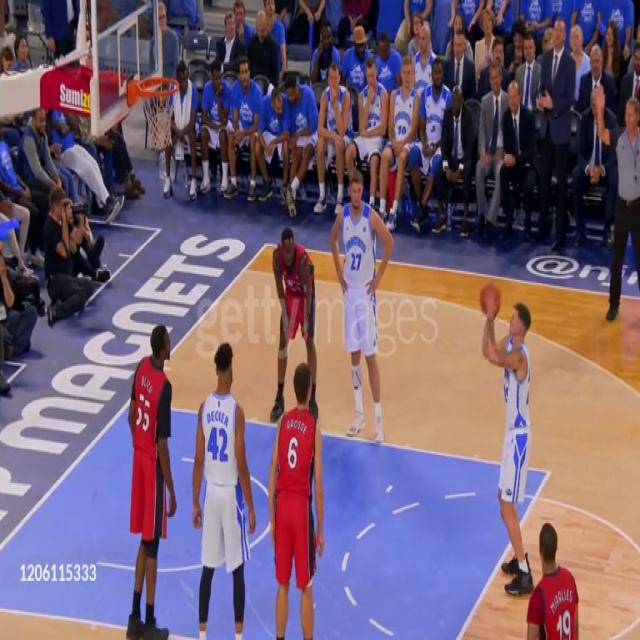ball: (480, 282, 501, 322)
